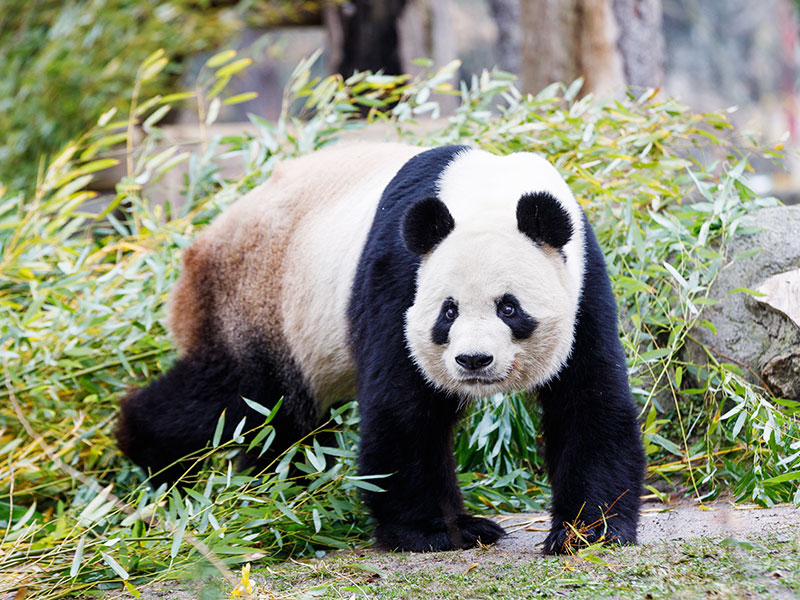Giant panda: (395, 189, 585, 394)
